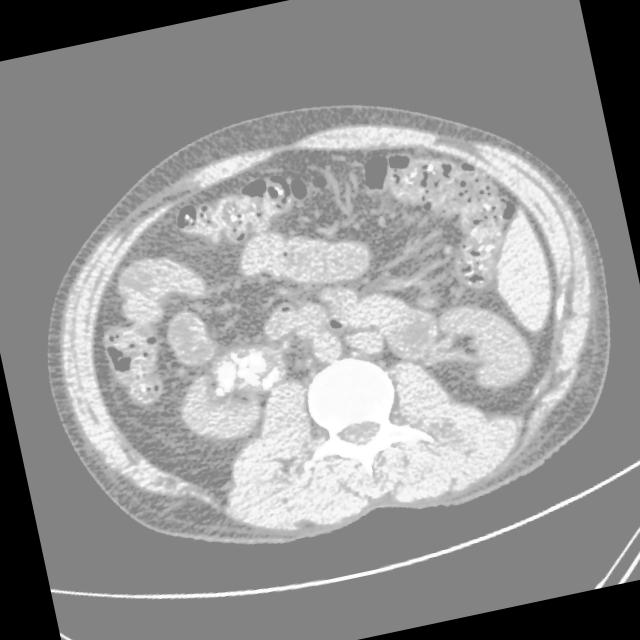STONE: (135, 112, 478, 400)
